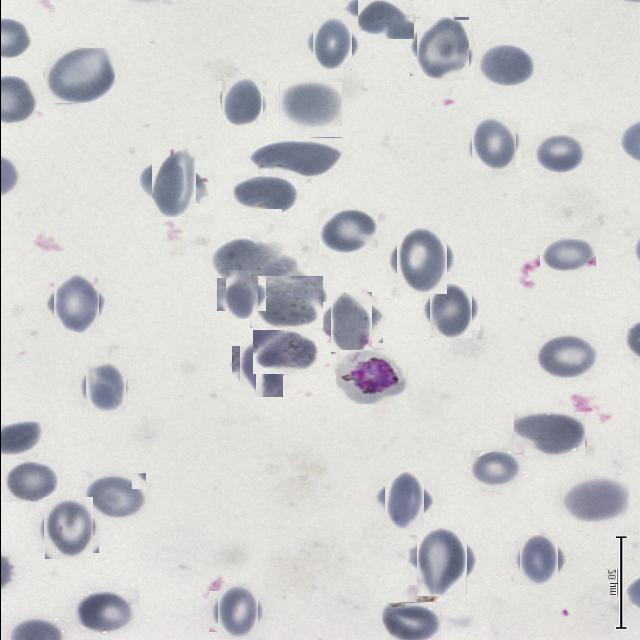red blood cell: (43, 47, 114, 103), (248, 137, 342, 178), (249, 276, 322, 328), (412, 530, 472, 591), (391, 229, 451, 289), (412, 21, 470, 78), (144, 154, 202, 210), (512, 412, 584, 456), (560, 476, 628, 522), (39, 501, 95, 556), (209, 240, 278, 284), (252, 330, 319, 374), (48, 278, 102, 330), (83, 473, 145, 518), (278, 82, 341, 126), (534, 334, 596, 378), (72, 589, 134, 633), (318, 208, 377, 254), (324, 296, 376, 348), (234, 342, 286, 393), (476, 42, 534, 86), (231, 174, 297, 212), (426, 284, 476, 334), (468, 120, 518, 170), (379, 475, 428, 524), (2, 460, 58, 502), (212, 588, 260, 636), (380, 602, 440, 640), (308, 19, 355, 66), (357, 0, 413, 39), (82, 362, 128, 409), (532, 134, 586, 174), (219, 79, 264, 124), (516, 538, 561, 582), (539, 237, 595, 272), (470, 450, 521, 487), (220, 274, 261, 315)
schizont: (335, 350, 405, 404)
